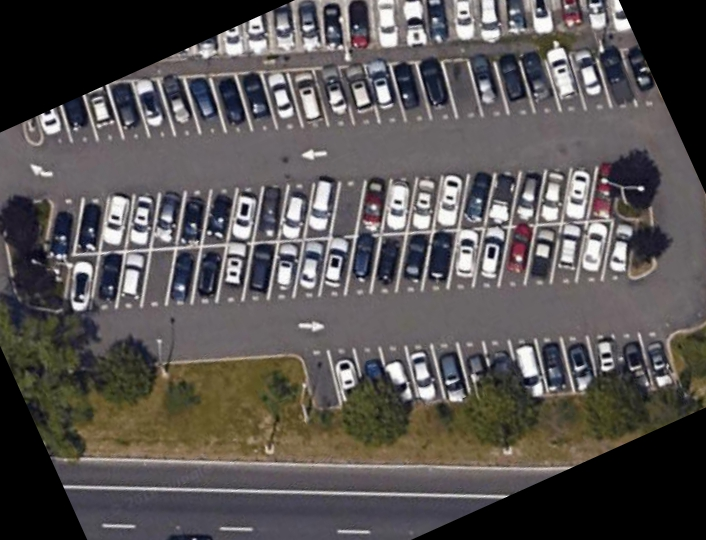parkingspot: (41, 154, 642, 318), (35, 41, 667, 148), (295, 328, 685, 412), (159, 0, 633, 62)
